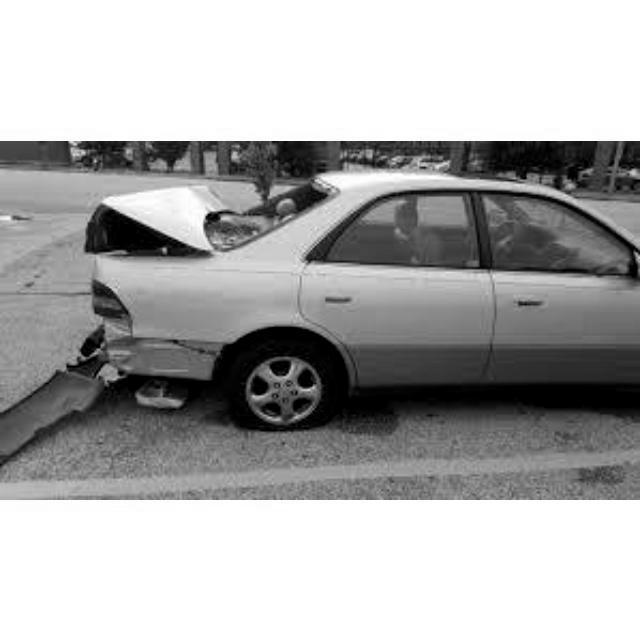Rear-windscreen-Damage: (231, 179, 323, 247)
boot-dent: (93, 193, 224, 263)
quaterpanel-dent: (151, 301, 212, 380)
rear-bumper-dent: (86, 303, 135, 389)
